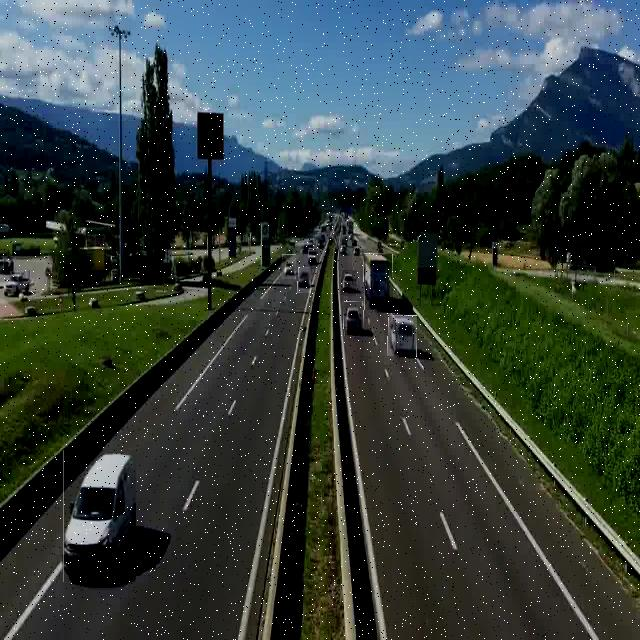Car: (63, 450, 136, 582), (388, 315, 417, 356), (344, 301, 364, 336), (341, 270, 357, 296), (282, 254, 296, 279), (298, 267, 311, 293), (309, 248, 319, 269)
Truck: (364, 253, 393, 310)
